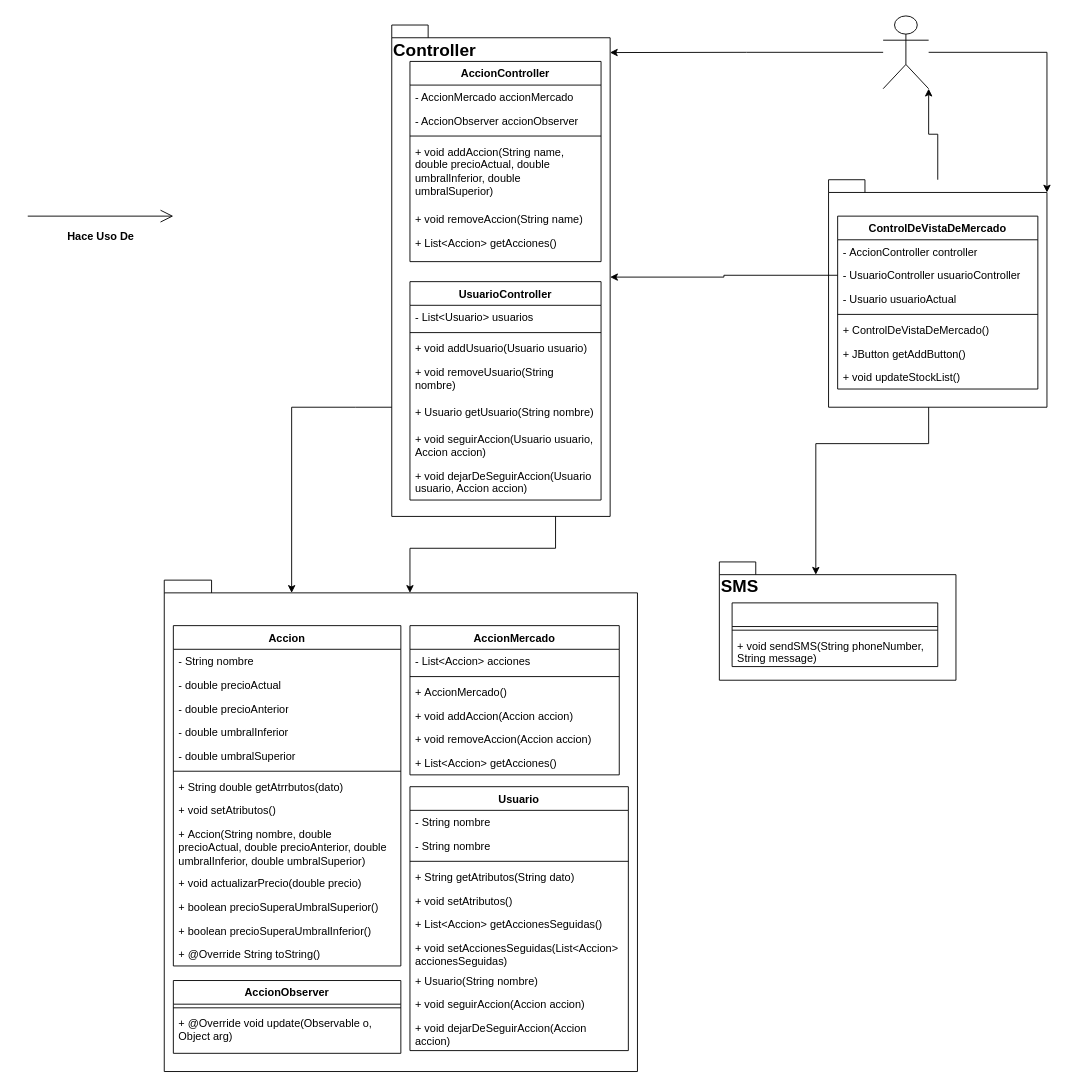
The diagram is 1070 pixels wide and 1087 high, and some of its shapes have lost their labels. The box of each missing label's shape, as (x1, y1, x2, y2) in pixels:
Model: (163, 579, 637, 1072)
SMSService: (731, 602, 938, 667)
User: (882, 15, 929, 89)
View: (828, 179, 1047, 407)
